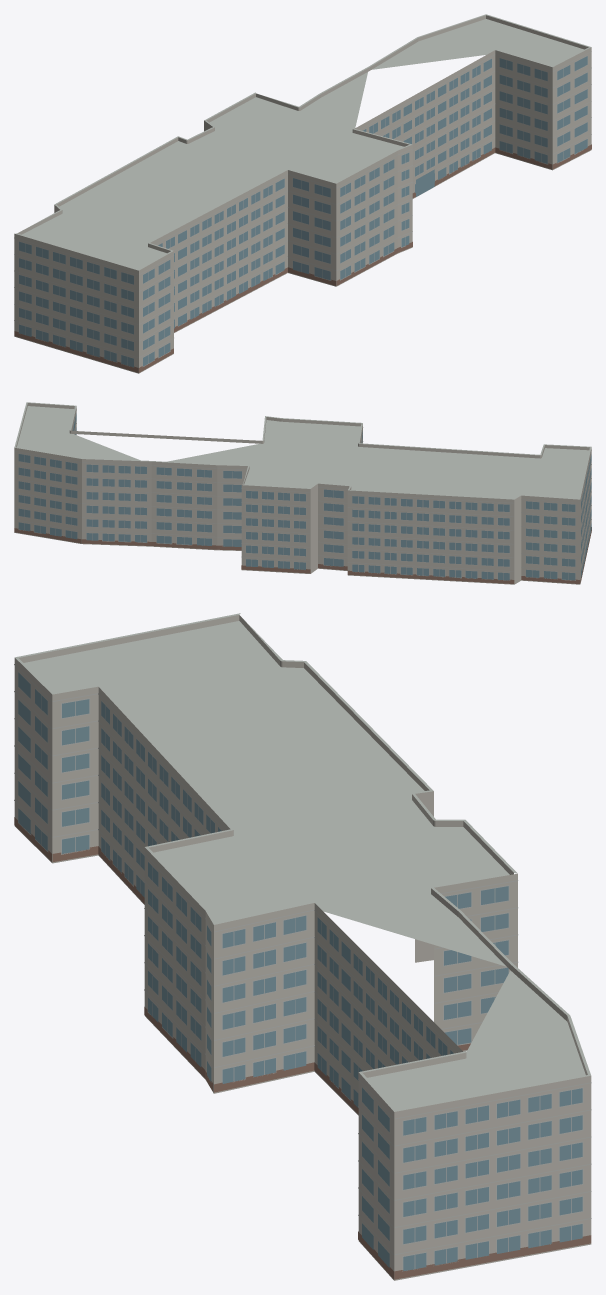
Rendered from public-92104ca3-98e8-488c-9146-f9af445c4920.glb.
3 renders of one model, top to bottom at view 1: azimuth 30°, elevation 25°; view 2: azimuth 150°, elevation 25°; view 3: azimuth 270°, elevation 25°, orthographic. The views are drawn at different scales.
Parts seen in each view (by area): view 1: public-92104ca3-98e8-488c-9146-f9af445c4920; view 2: public-92104ca3-98e8-488c-9146-f9af445c4920; view 3: public-92104ca3-98e8-488c-9146-f9af445c4920.
Boxes of the visible parts, left/top/right/bottom form: public-92104ca3-98e8-488c-9146-f9af445c4920: left=14, top=14, right=591, bottom=373; public-92104ca3-98e8-488c-9146-f9af445c4920: left=14, top=402, right=591, bottom=584; public-92104ca3-98e8-488c-9146-f9af445c4920: left=14, top=613, right=591, bottom=1280.
Bounding box in the file's own units: 116 × 18.3 × 56.76.
